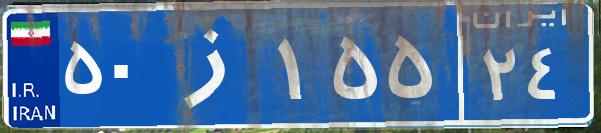0: (110, 28, 158, 105)
1: (273, 28, 330, 110)
2: (475, 38, 525, 113)
4: (525, 38, 570, 115)
5: (385, 28, 445, 110), (330, 28, 385, 110), (57, 26, 110, 107)
ز: (158, 15, 273, 115)
